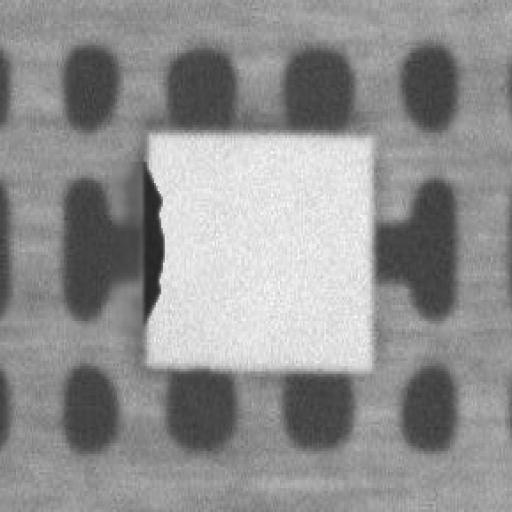DIE_BROKEN: (136, 154, 162, 324)
